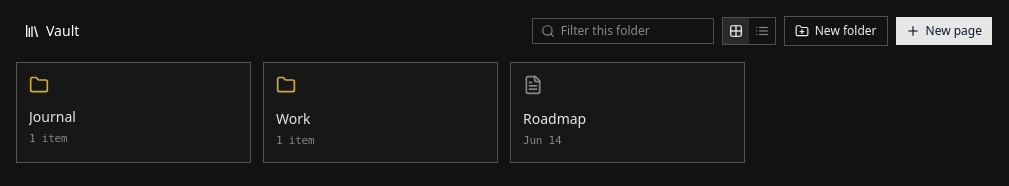
Scenario: VaultBrowserPane - renaming › a new folder opens straight into its rename field
Click the button titled "New folder".
click(836, 31)  # box x1=784 y1=16 x2=888 y2=46
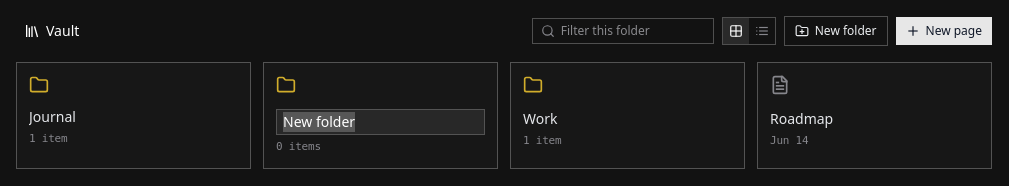
Check: the field showing "New folder" is shown, box x1=276 y1=109 x2=485 y2=135
